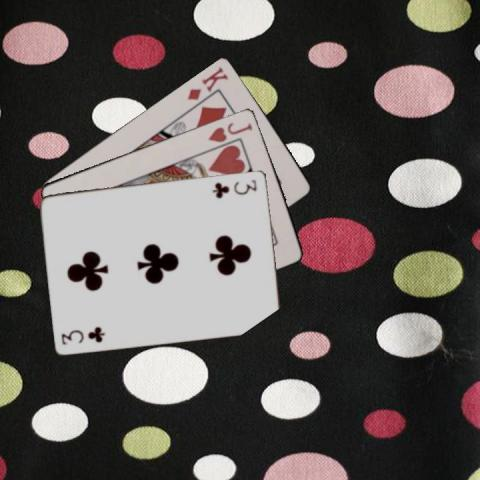3c: (210, 177, 259, 199), (58, 325, 106, 346)
Jh: (206, 119, 254, 144)
Kd: (184, 63, 230, 101)
